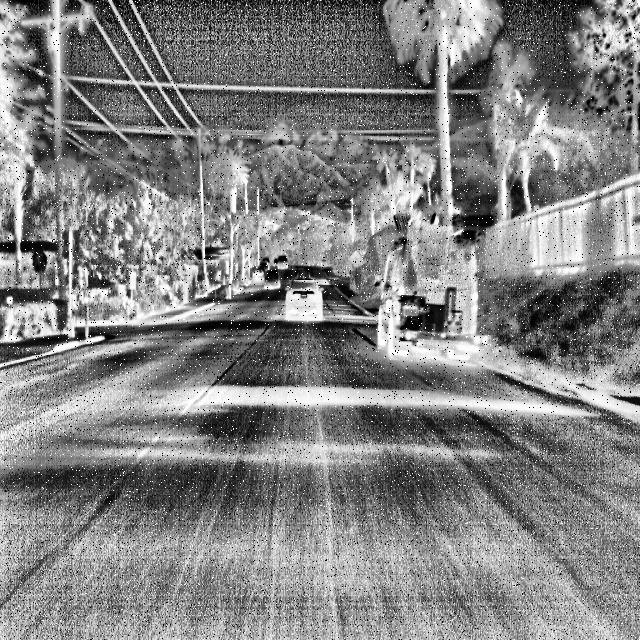car: (374, 223, 484, 370), (285, 275, 330, 326), (276, 253, 299, 274), (257, 254, 277, 278), (264, 275, 283, 299), (251, 261, 268, 279)
